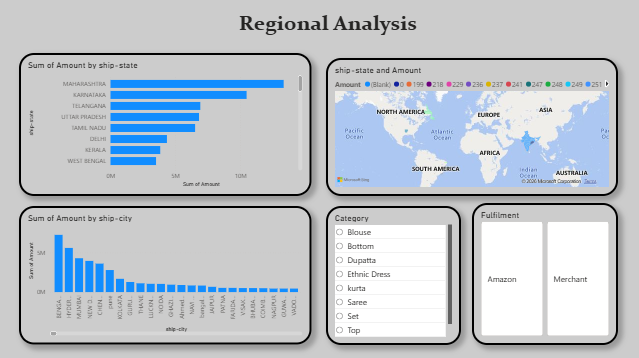

The dashboard page shown, as its layout file describes it:
{"tool":"powerbi","page":{"name":"Regional Analysis","canvas":[1280,720],"ordinal":2},"visuals":[{"type":"barChart","fields":{"Category":["Amazon Sale Report.ship-state"],"Y":["Sum(Amazon Sale Report.Amount)"]},"box":[40.3,107.5,584.6,285.6],"z":0},{"type":"clusteredColumnChart","fields":{"Category":["Amazon Sale Report.ship-city"],"Y":["Sum(Amazon Sale Report.Amount)"]},"box":[40.3,414.9,584.6,277.2],"z":1},{"type":"filledMap","fields":{"Category":["Amazon Sale Report.ship-state"],"Series":["Amazon Sale Report.Amount"]},"box":[654,118,584,276],"z":2},{"type":"listSlicer","fields":{"Values":["Amazon Sale Report.Category"]},"box":[654,414,270,278],"z":3},{"type":"advancedSlicerVisual","fields":{"Values":["Amazon Sale Report.Fulfilment"]},"box":[946,408,292,284],"z":4},{"type":"textbox","box":[100,16,1116,70],"z":5}]}

Visuals, with their boxes in screenshot pixels (x1, y1, x2, y2), scaled from the page's 1280x720 canvas onto the 639x358 screenshot:
barChart - Amazon Sale Report.ship-state x Sum(Amazon Sale Report.Amount): [left=20, top=53, right=312, bottom=195]
clusteredColumnChart - Amazon Sale Report.ship-city x Sum(Amazon Sale Report.Amount): [left=20, top=206, right=312, bottom=344]
filledMap - Amazon Sale Report.ship-state x Amazon Sale Report.Amount: [left=326, top=59, right=618, bottom=196]
listSlicer - Amazon Sale Report.Category: [left=326, top=206, right=461, bottom=344]
advancedSlicerVisual - Amazon Sale Report.Fulfilment: [left=472, top=203, right=618, bottom=344]
textbox: [left=50, top=8, right=607, bottom=43]
